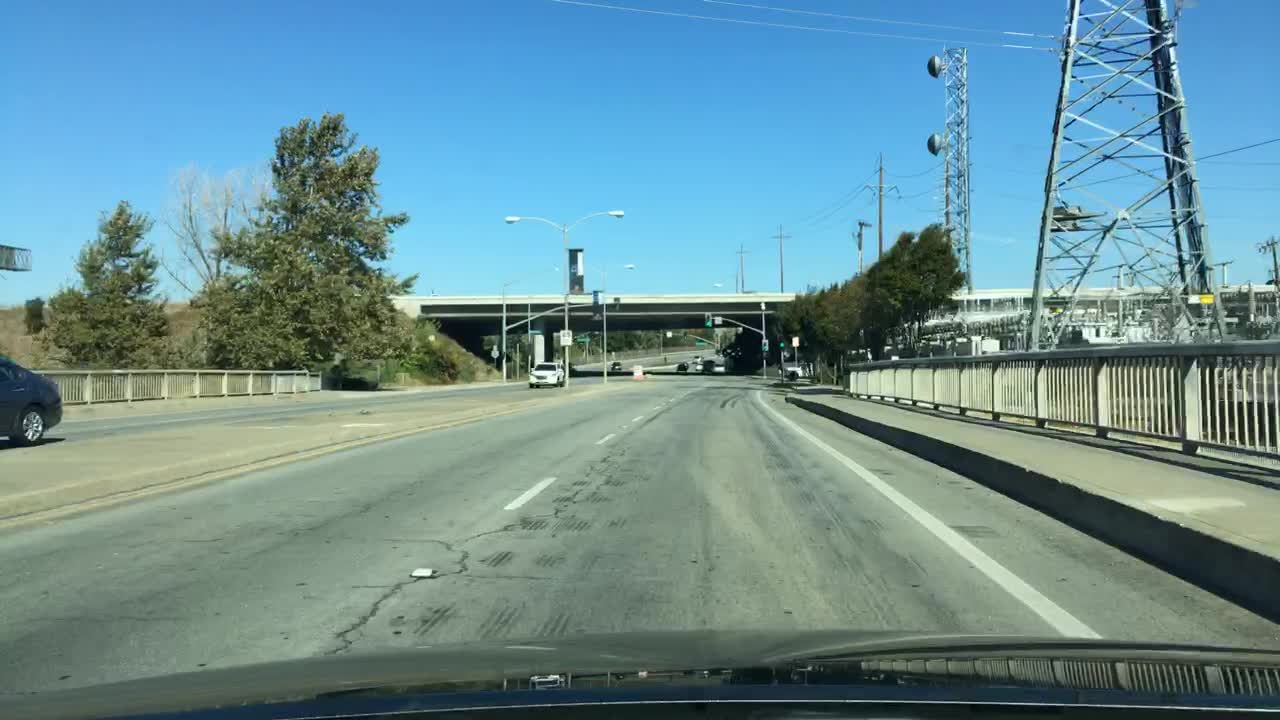car: (0, 354, 66, 445), (527, 362, 566, 389), (779, 362, 813, 379), (701, 356, 712, 374), (608, 360, 623, 370), (675, 362, 689, 372), (691, 354, 704, 364), (694, 360, 704, 371)
traffic light: (702, 310, 712, 325), (761, 337, 771, 351)
traffic sign: (1184, 291, 1217, 305), (557, 328, 573, 346), (693, 340, 708, 347), (713, 313, 722, 324), (791, 335, 799, 347), (662, 328, 673, 336), (576, 335, 591, 340)
